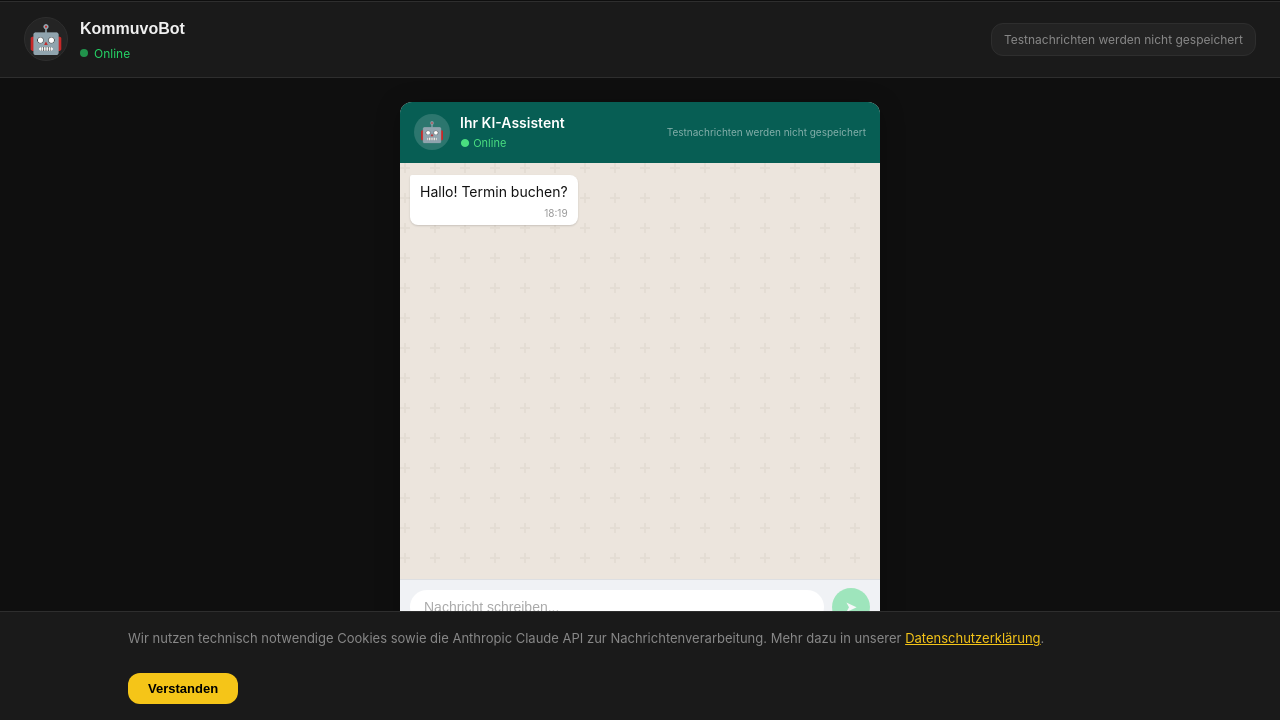
Scenario: Slot-Konflikt: Doppelbuchung wird verhindert › erster Termin wird korrekt gespeichert (kein Konflikt)
(page scrolled)
Type "Ich möchte einen Termin buchen" into the field with test id "chat-input" showing "Nachricht schreiben..." at (617, 607), box [410, 590, 824, 624]
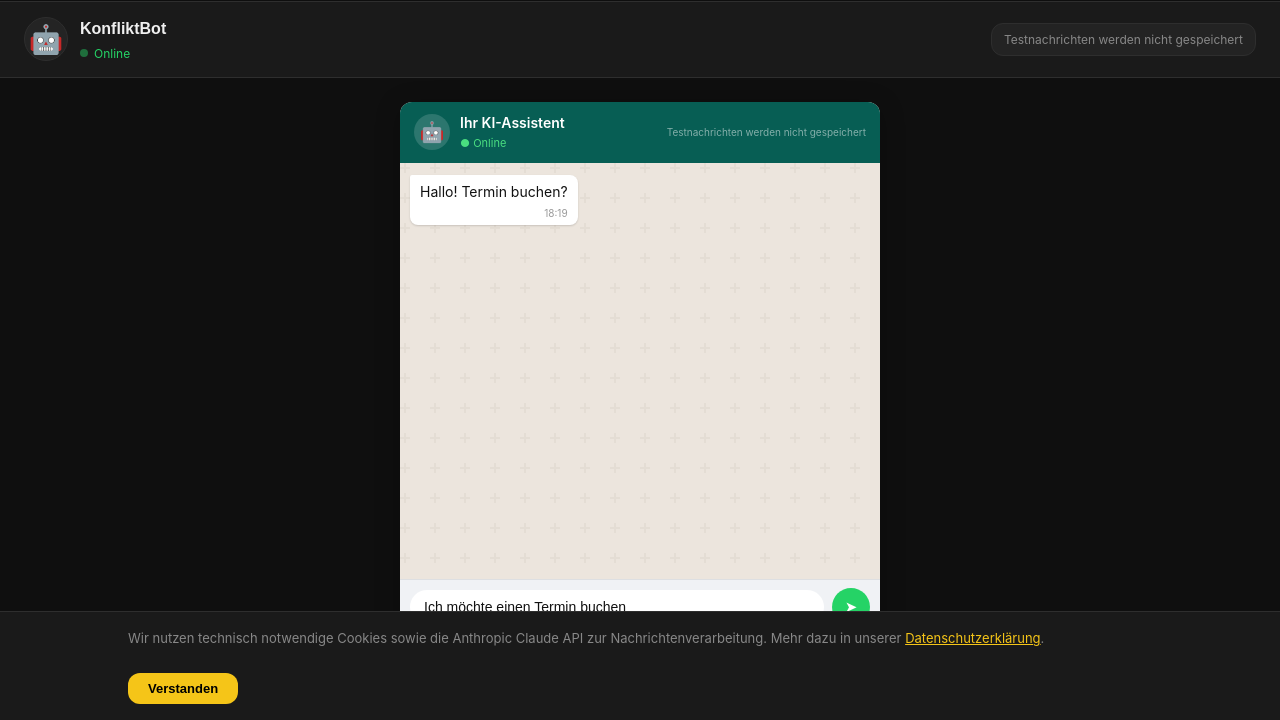
Click the button with test id "chat-send" at (851, 607), box [832, 588, 870, 626]
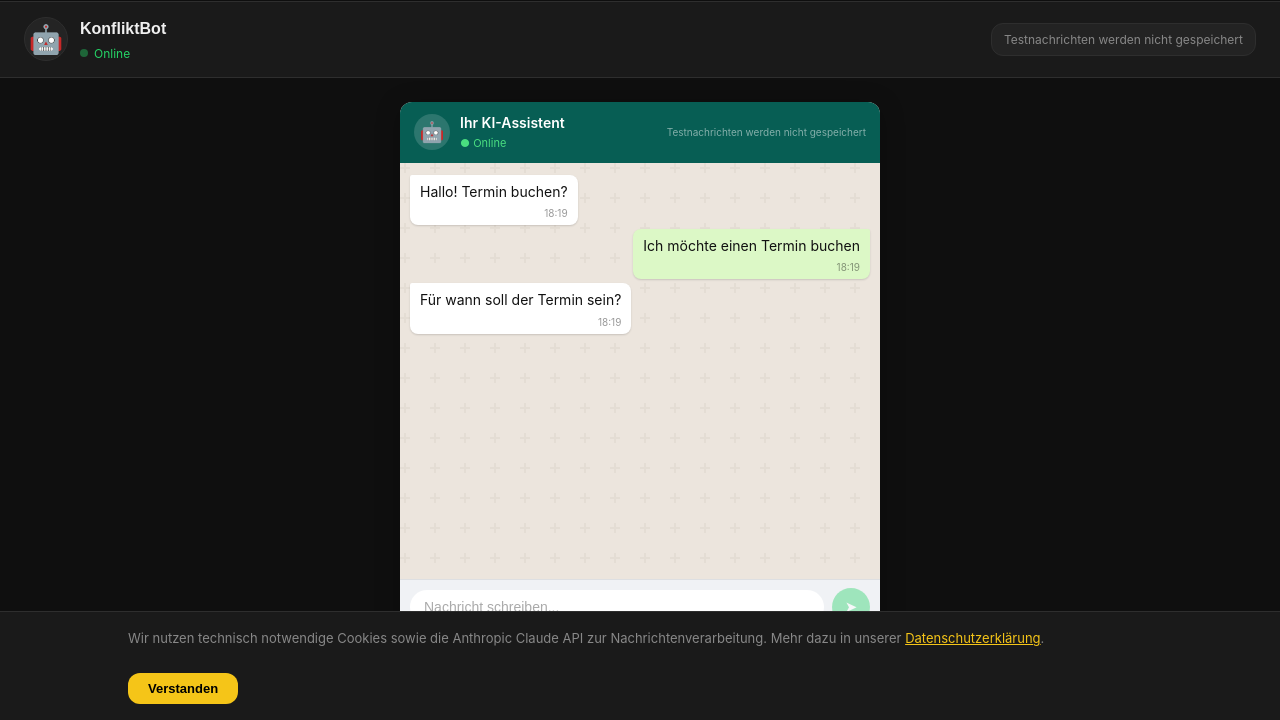
Type "Übermorgen um 10 Uhr" into the field with test id "chat-input" showing "Nachricht schreiben..." at (617, 607), box [410, 590, 824, 624]
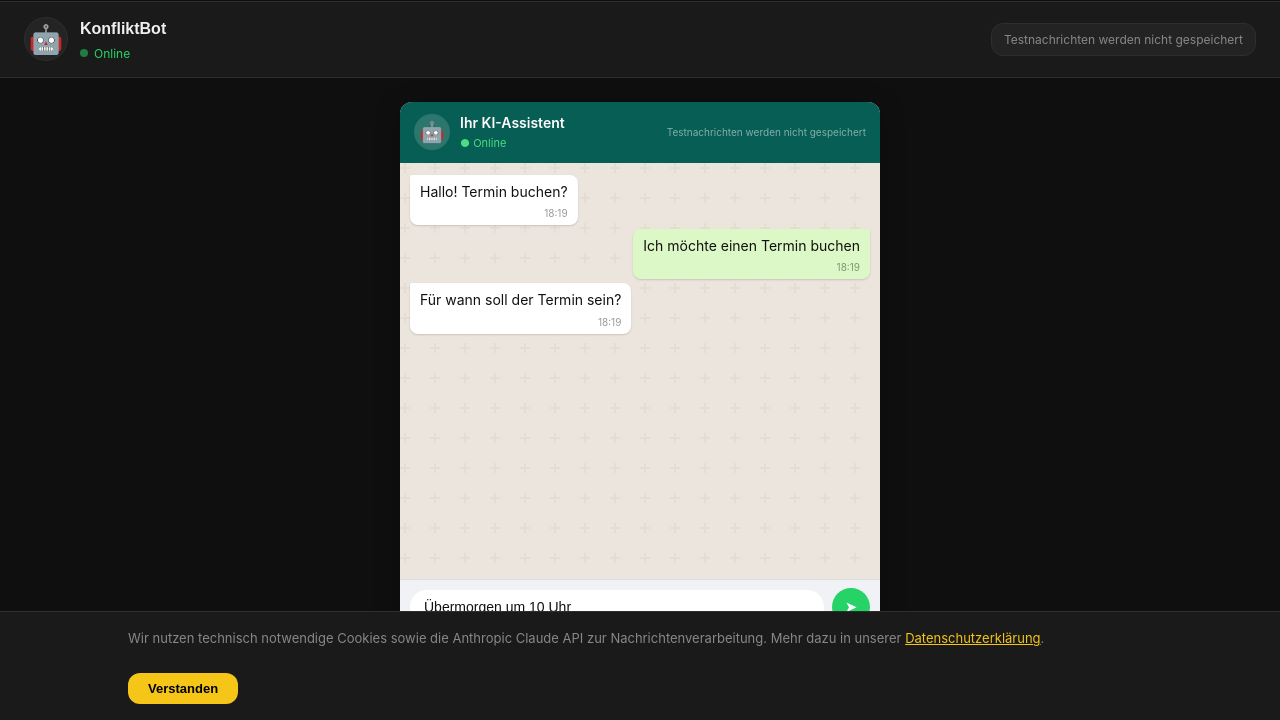
Click the button with test id "chat-send" at (851, 607), box [832, 588, 870, 626]
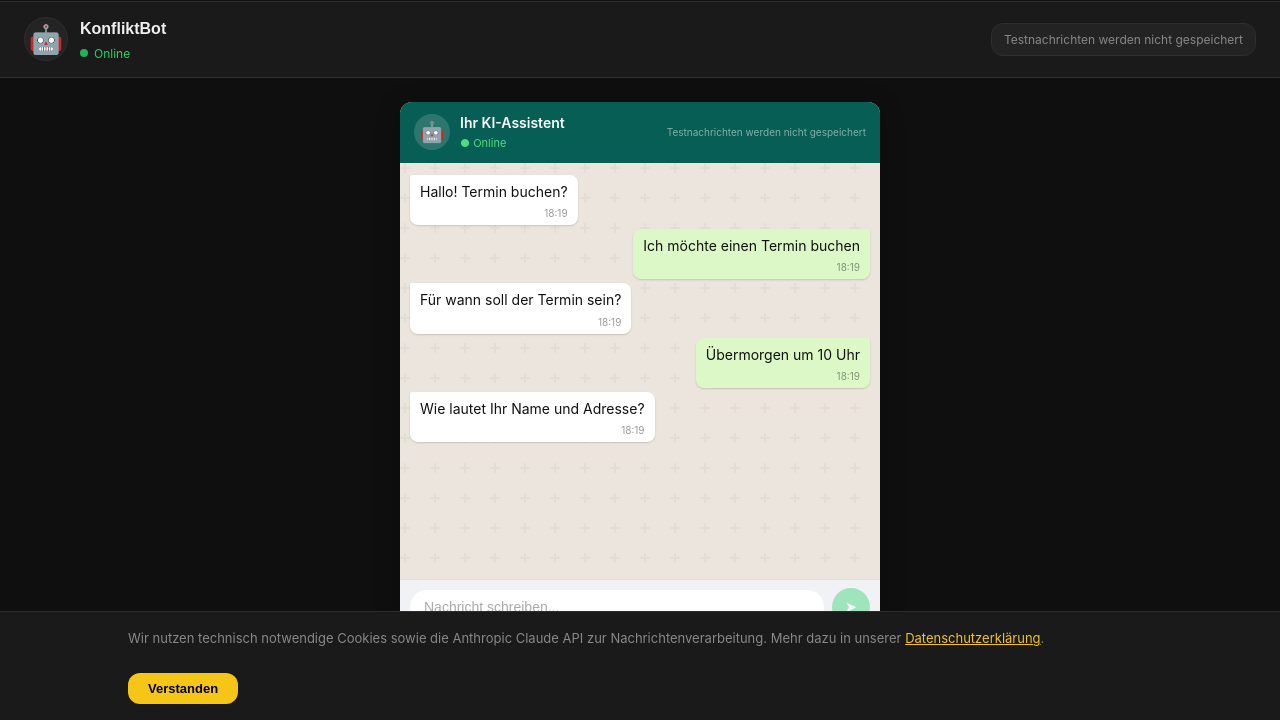
Type "Erster Kunde, Musterstraße 1" into the field with test id "chat-input" showing "Nachricht schreiben..." at (617, 607), box [410, 590, 824, 624]
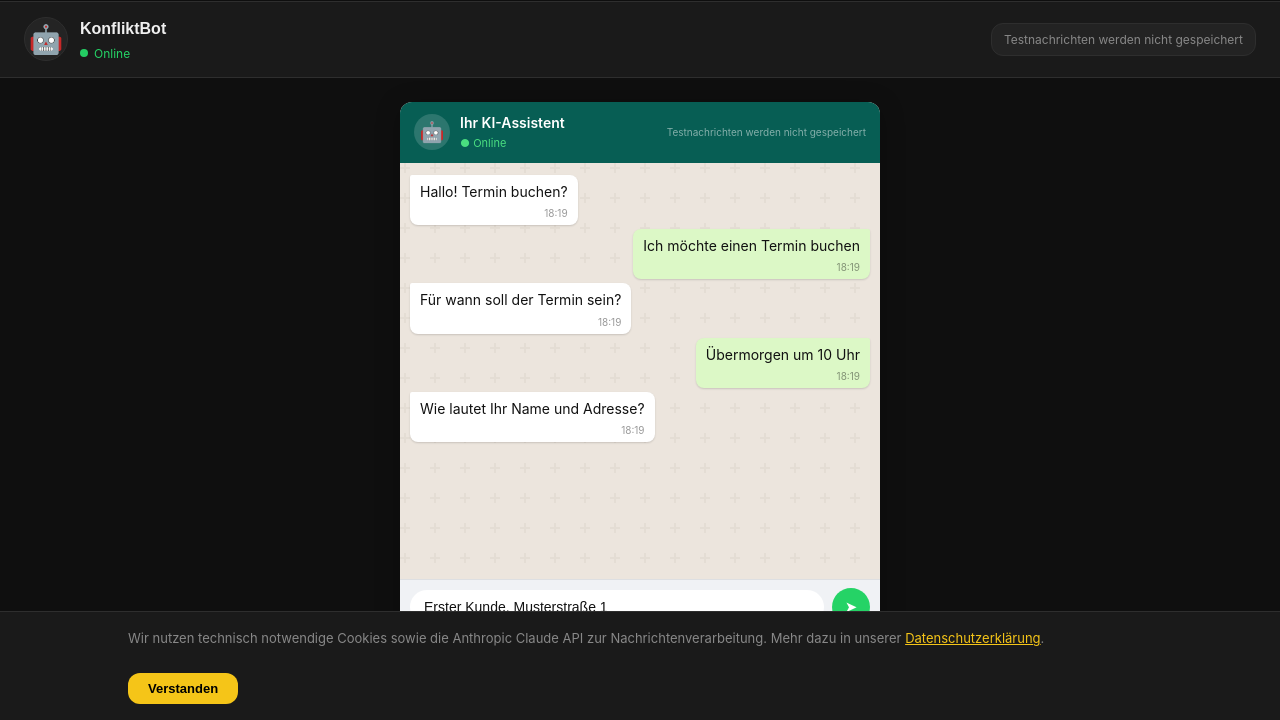
Click the button with test id "chat-send" at (851, 607), box [832, 588, 870, 626]
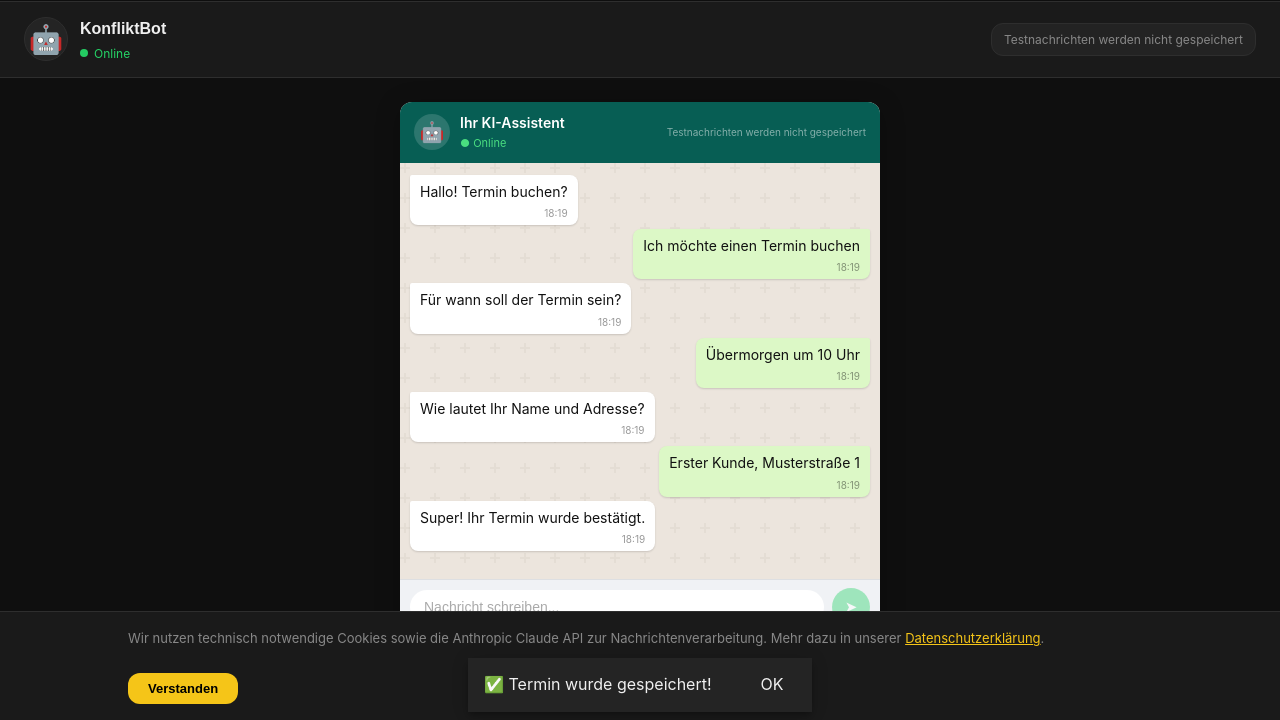
Result: the element showing "✅ Termin wurde gespeichert! OK" is shown at [468, 658, 812, 712]
